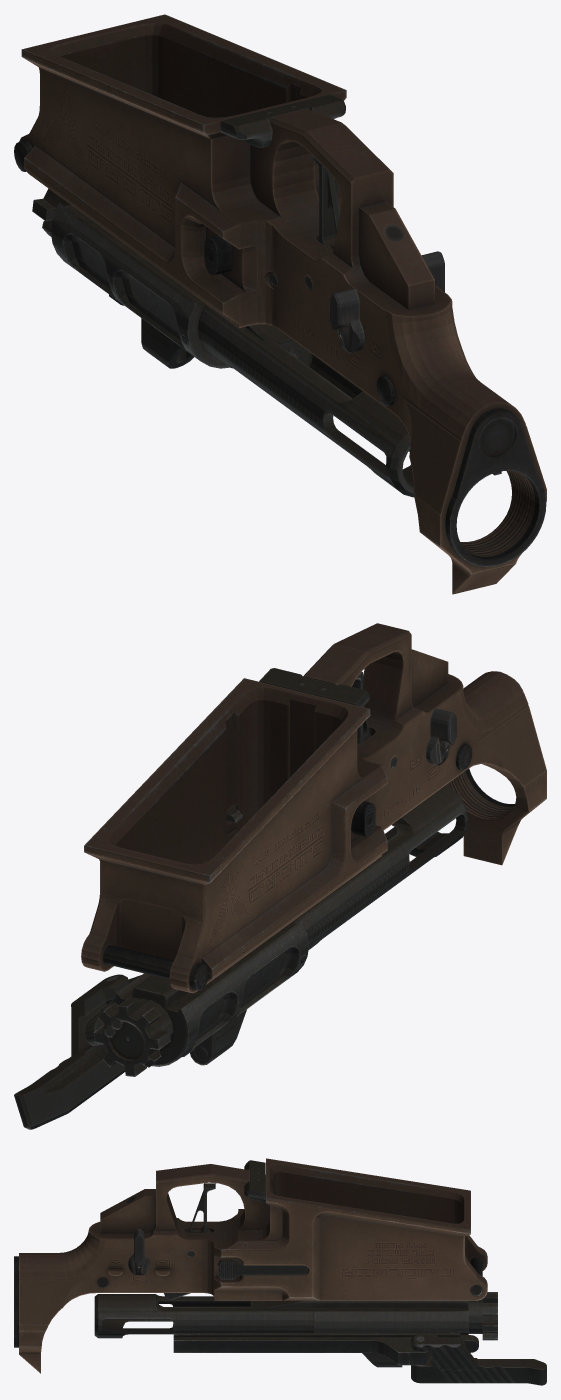
3 views of the same model, one above another, from view 1: azimuth 30°, elevation 25°; view 2: azimuth 150°, elevation 25°; view 3: azimuth 270°, elevation 25° (orthographic). The views are drawn at different scales.
Parts seen in each view (by area): view 1: TW_5fc22d7c187fea44d52eda44_PZ_Import; view 2: TW_5fc22d7c187fea44d52eda44_PZ_Import; view 3: TW_5fc22d7c187fea44d52eda44_PZ_Import.
Boxes of the visible parts, left/top/right/bottom form: TW_5fc22d7c187fea44d52eda44_PZ_Import: left=14, top=14, right=546, bottom=594; TW_5fc22d7c187fea44d52eda44_PZ_Import: left=14, top=623, right=546, bottom=1129; TW_5fc22d7c187fea44d52eda44_PZ_Import: left=14, top=1158, right=546, bottom=1385.
Size of the model in its own units: 0.0349 by 0.1691 by 0.0696.
1 material, 1 textured.
